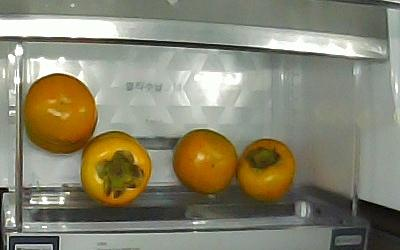persimmon: (23, 72, 97, 155), (80, 131, 151, 206), (172, 129, 239, 197), (237, 137, 295, 203)
